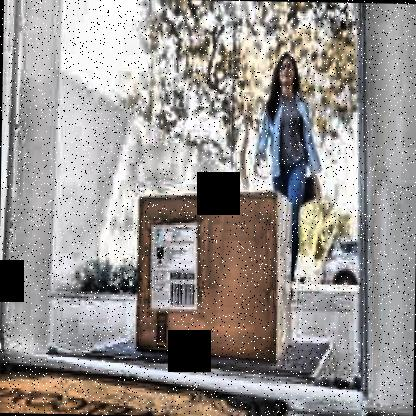no defect parcel: (127, 178, 302, 368)
